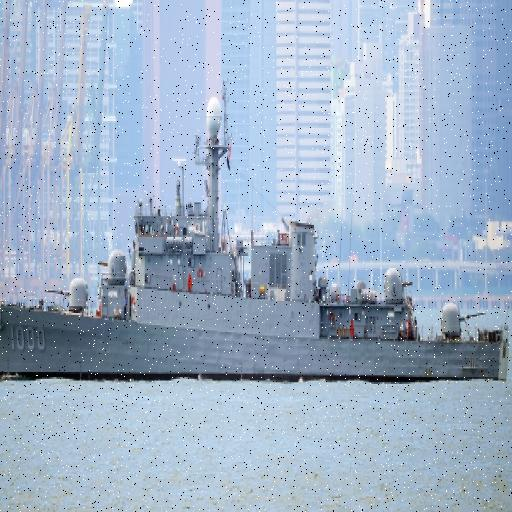Fragata: (1, 89, 512, 392)
